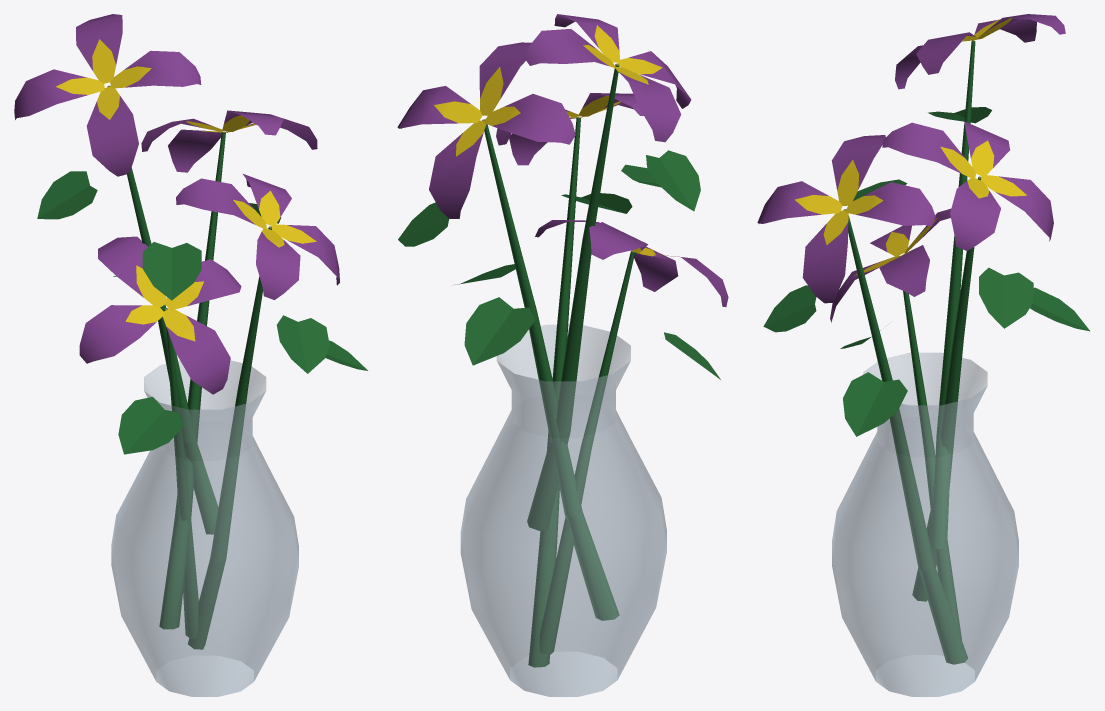
The model's file is Vase_Short_Flowers.obj.
3 views of the same model, side by side, from view 1: azimuth 30°, elevation 25°; view 2: azimuth 150°, elevation 25°; view 3: azimuth 270°, elevation 25° (orthographic). The views are drawn at different scales.
Parts seen in each view (by area): view 1: Mesh3 Vase_Quarter3 vase_thin1 Model, Mesh1 Vase_Quarter1 vase_thin1 Model, Mesh4 Vase_Quarter4 vase_thin1 Model, Mesh2 Vase_Quarter2 vase_thin1 Model, Mesh5 stem1 Plant_flower1 Model, Mesh19 stem3 Plant_flower3 Model, Mesh29 petal_1_15 flower4 Plant_flower2_1 Model, Mesh16 petal_1_7 flower2 Plant_flower2 Model, Mesh12 stem2 Plant_flower2 Model, Mesh30 petal_1_16 flower4 Plant_flower2_1 Model, Mesh26 stem2_1 Plant_flower2_1 Model, Mesh31 leaf7 Plant_flower2_1 Model (+17 smaller); view 2: Mesh2 Vase_Quarter2 vase_thin1 Model, Mesh4 Vase_Quarter4 vase_thin1 Model, Mesh1 Vase_Quarter1 vase_thin1 Model, Mesh3 Vase_Quarter3 vase_thin1 Model, Mesh19 stem3 Plant_flower3 Model, Mesh12 stem2 Plant_flower2 Model, Mesh5 stem1 Plant_flower1 Model, Mesh26 stem2_1 Plant_flower2_1 Model, Mesh23 petal_1_11 flower3 Plant_flower3 Model, Mesh20 leaf5 Plant_flower3 Model, Mesh21 petal_1_9 flower3 Plant_flower3 Model, Mesh24 petal_1_12 flower3 Plant_flower3 Model (+14 smaller); view 3: Mesh1 Vase_Quarter1 vase_thin1 Model, Mesh4 Vase_Quarter4 vase_thin1 Model, Mesh3 Vase_Quarter3 vase_thin1 Model, Mesh2 Vase_Quarter2 vase_thin1 Model, Mesh5 stem1 Plant_flower1 Model, Mesh12 stem2 Plant_flower2 Model, Mesh9 petal_1_3 flower1 Plant_flower1 Model, Mesh19 stem3 Plant_flower3 Model, Mesh26 stem2_1 Plant_flower2_1 Model, Mesh6 leaf1 Plant_flower1 Model, Mesh7 petal_1_1 flower1 Plant_flower1 Model, Mesh24 petal_1_12 flower3 Plant_flower3 Model (+16 smaller).
Boxes of the visible parts, x1,y1,x2,y2 form: Mesh3 Vase_Quarter3 vase_thin1 Model: [125, 399, 251, 696]; Mesh1 Vase_Quarter1 vase_thin1 Model: [159, 360, 284, 675]; Mesh4 Vase_Quarter4 vase_thin1 Model: [206, 371, 298, 693]; Mesh2 Vase_Quarter2 vase_thin1 Model: [111, 364, 203, 685]; Mesh5 stem1 Plant_flower1 Model: [188, 226, 271, 649]; Mesh19 stem3 Plant_flower3 Model: [159, 132, 225, 629]; Mesh29 petal_1_15 flower4 Plant_flower2_1 Model: [162, 309, 230, 394]; Mesh16 petal_1_7 flower2 Plant_flower2 Model: [86, 86, 138, 176]; Mesh12 stem2 Plant_flower2 Model: [107, 85, 218, 534]; Mesh30 petal_1_16 flower4 Plant_flower2_1 Model: [79, 305, 164, 363]; Mesh26 stem2_1 Plant_flower2_1 Model: [164, 308, 198, 638]; Mesh31 leaf7 Plant_flower2_1 Model: [118, 397, 183, 454]; Mesh2 Vase_Quarter2 vase_thin1 Model: [513, 368, 651, 696]; Mesh4 Vase_Quarter4 vase_thin1 Model: [476, 324, 613, 673]; Mesh1 Vase_Quarter1 vase_thin1 Model: [460, 349, 562, 693]; Mesh3 Vase_Quarter3 vase_thin1 Model: [565, 329, 666, 685]; Mesh19 stem3 Plant_flower3 Model: [482, 119, 619, 620]; Mesh12 stem2 Plant_flower2 Model: [527, 63, 619, 530]; Mesh5 stem1 Plant_flower1 Model: [528, 117, 580, 667]; Mesh26 stem2_1 Plant_flower2_1 Model: [539, 250, 634, 654]; Mesh23 petal_1_11 flower3 Plant_flower3 Model: [429, 120, 486, 218]; Mesh20 leaf5 Plant_flower3 Model: [464, 297, 535, 365]; Mesh21 petal_1_9 flower3 Plant_flower3 Model: [483, 94, 575, 144]; Mesh24 petal_1_12 flower3 Plant_flower3 Model: [397, 86, 482, 128]; Mesh1 Vase_Quarter1 vase_thin1 Model: [925, 380, 1018, 696]; Mesh4 Vase_Quarter4 vase_thin1 Model: [832, 403, 925, 696]; Mesh3 Vase_Quarter3 vase_thin1 Model: [832, 352, 925, 675]; Mesh2 Vase_Quarter2 vase_thin1 Model: [925, 352, 1018, 675]; Mesh5 stem1 Plant_flower1 Model: [843, 209, 967, 664]; Mesh12 stem2 Plant_flower2 Model: [931, 40, 975, 549]; Mesh9 petal_1_3 flower1 Plant_flower1 Model: [802, 210, 848, 303]; Mesh19 stem3 Plant_flower3 Model: [912, 176, 981, 601]; Mesh26 stem2_1 Plant_flower2_1 Model: [899, 256, 961, 639]; Mesh6 leaf1 Plant_flower1 Model: [843, 372, 907, 436]; Mesh7 petal_1_1 flower1 Plant_flower1 Model: [845, 182, 935, 226]; Mesh24 petal_1_12 flower3 Plant_flower3 Model: [950, 178, 1000, 250].
Size of the model in its own units: 5.17 by 11.4 by 5.37.
